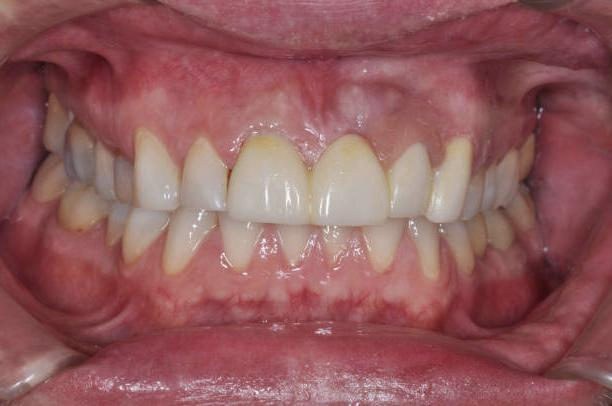Caries: (54, 128, 99, 186)
